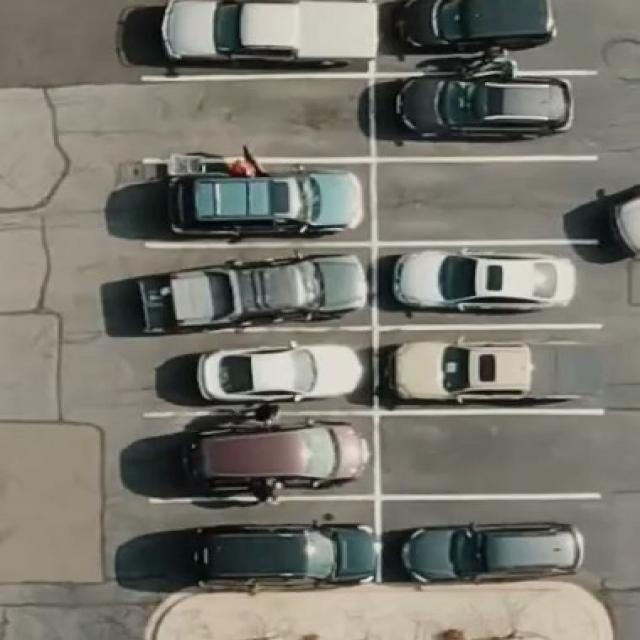space-empty: (136, 71, 372, 160), (376, 410, 606, 500), (371, 153, 596, 245)
space-occupied: (121, 497, 381, 592), (110, 241, 376, 330), (132, 409, 378, 498), (372, 65, 591, 160), (143, 323, 376, 412), (374, 323, 606, 412), (380, 496, 604, 584), (140, 159, 374, 242), (376, 238, 591, 326), (136, 0, 374, 75), (378, 0, 570, 65)
